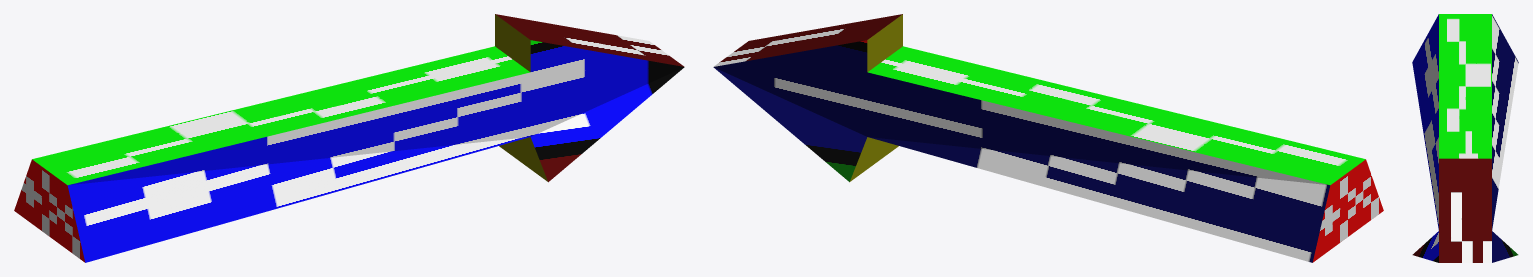
The model's file is arrowstv1.obj.
3 views of the same model, side by side, from view 1: azimuth 30°, elevation 25°; view 2: azimuth 150°, elevation 25°; view 3: azimuth 270°, elevation 25° (orthographic). The views are drawn at different scales.
Parts seen in each view (by area): view 1: arrow; view 2: arrow; view 3: arrow.
Part boxes in pixels (x1,y1,x2,y2): arrow: (14, 14, 684, 262); arrow: (713, 14, 1383, 262); arrow: (1412, 14, 1518, 262).
Bounding box in the file's own units: 2 × 0.4 × 0.4.
